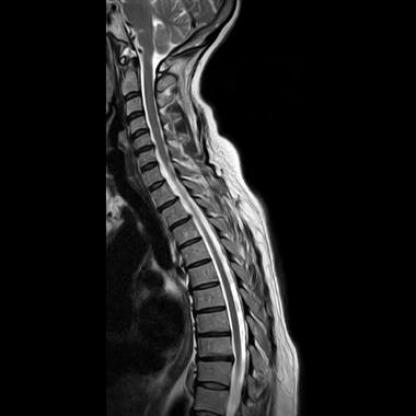Disc Bulgerotation: (130, 142, 160, 158)
